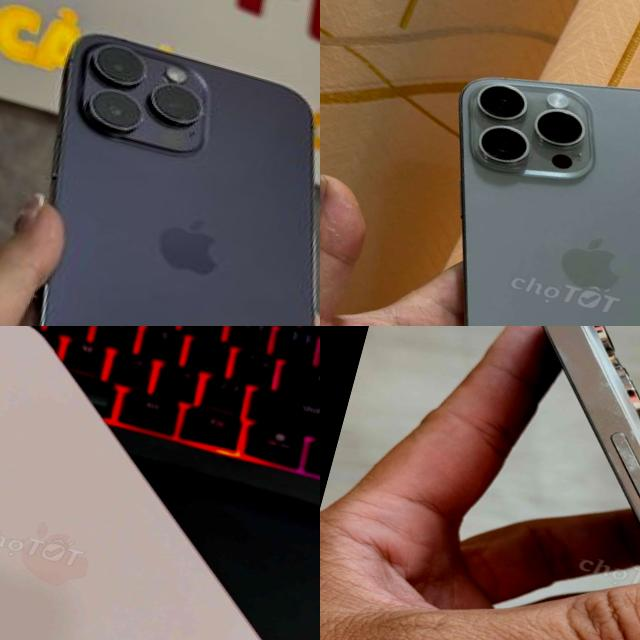gen_14: (0, 13, 320, 326), (389, 326, 640, 640)
gen_15: (0, 326, 320, 640)
gen_16: (459, 76, 640, 326)
